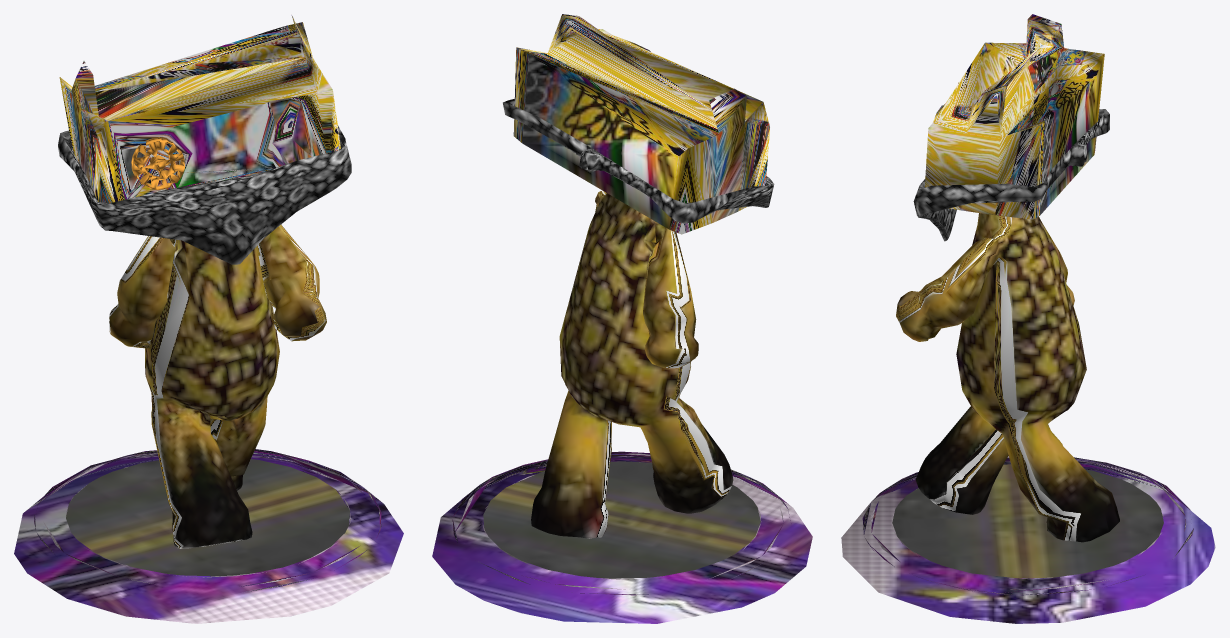
3 renders of one model, left to right at view 1: azimuth 30°, elevation 25°; view 2: azimuth 150°, elevation 25°; view 3: azimuth 270°, elevation 25°, orthographic. The views are drawn at different scales.
Size of the model in its own units: 1.44 by 2.1 by 1.44.
Materials: 6 (6 with a texture image).
